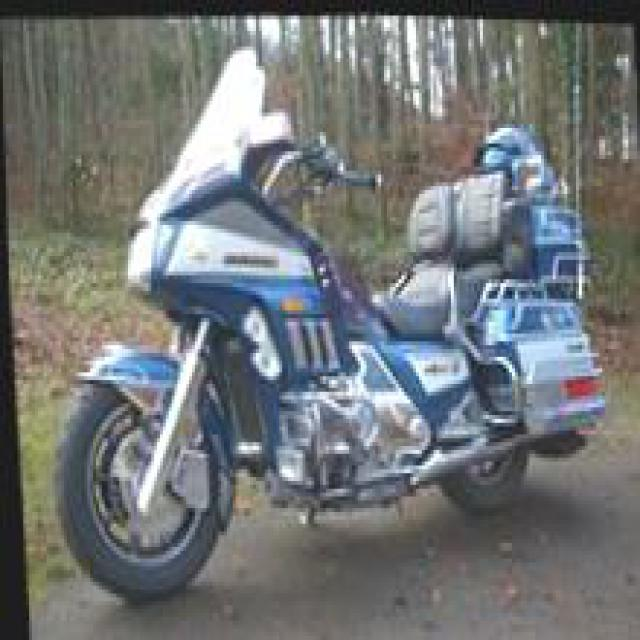Gold Wing: (25, 18, 612, 618)
